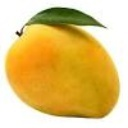mango: (5, 10, 119, 118)
